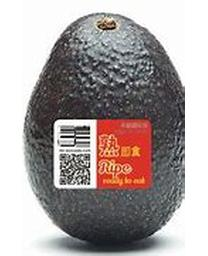avocado: (24, 11, 185, 249)
